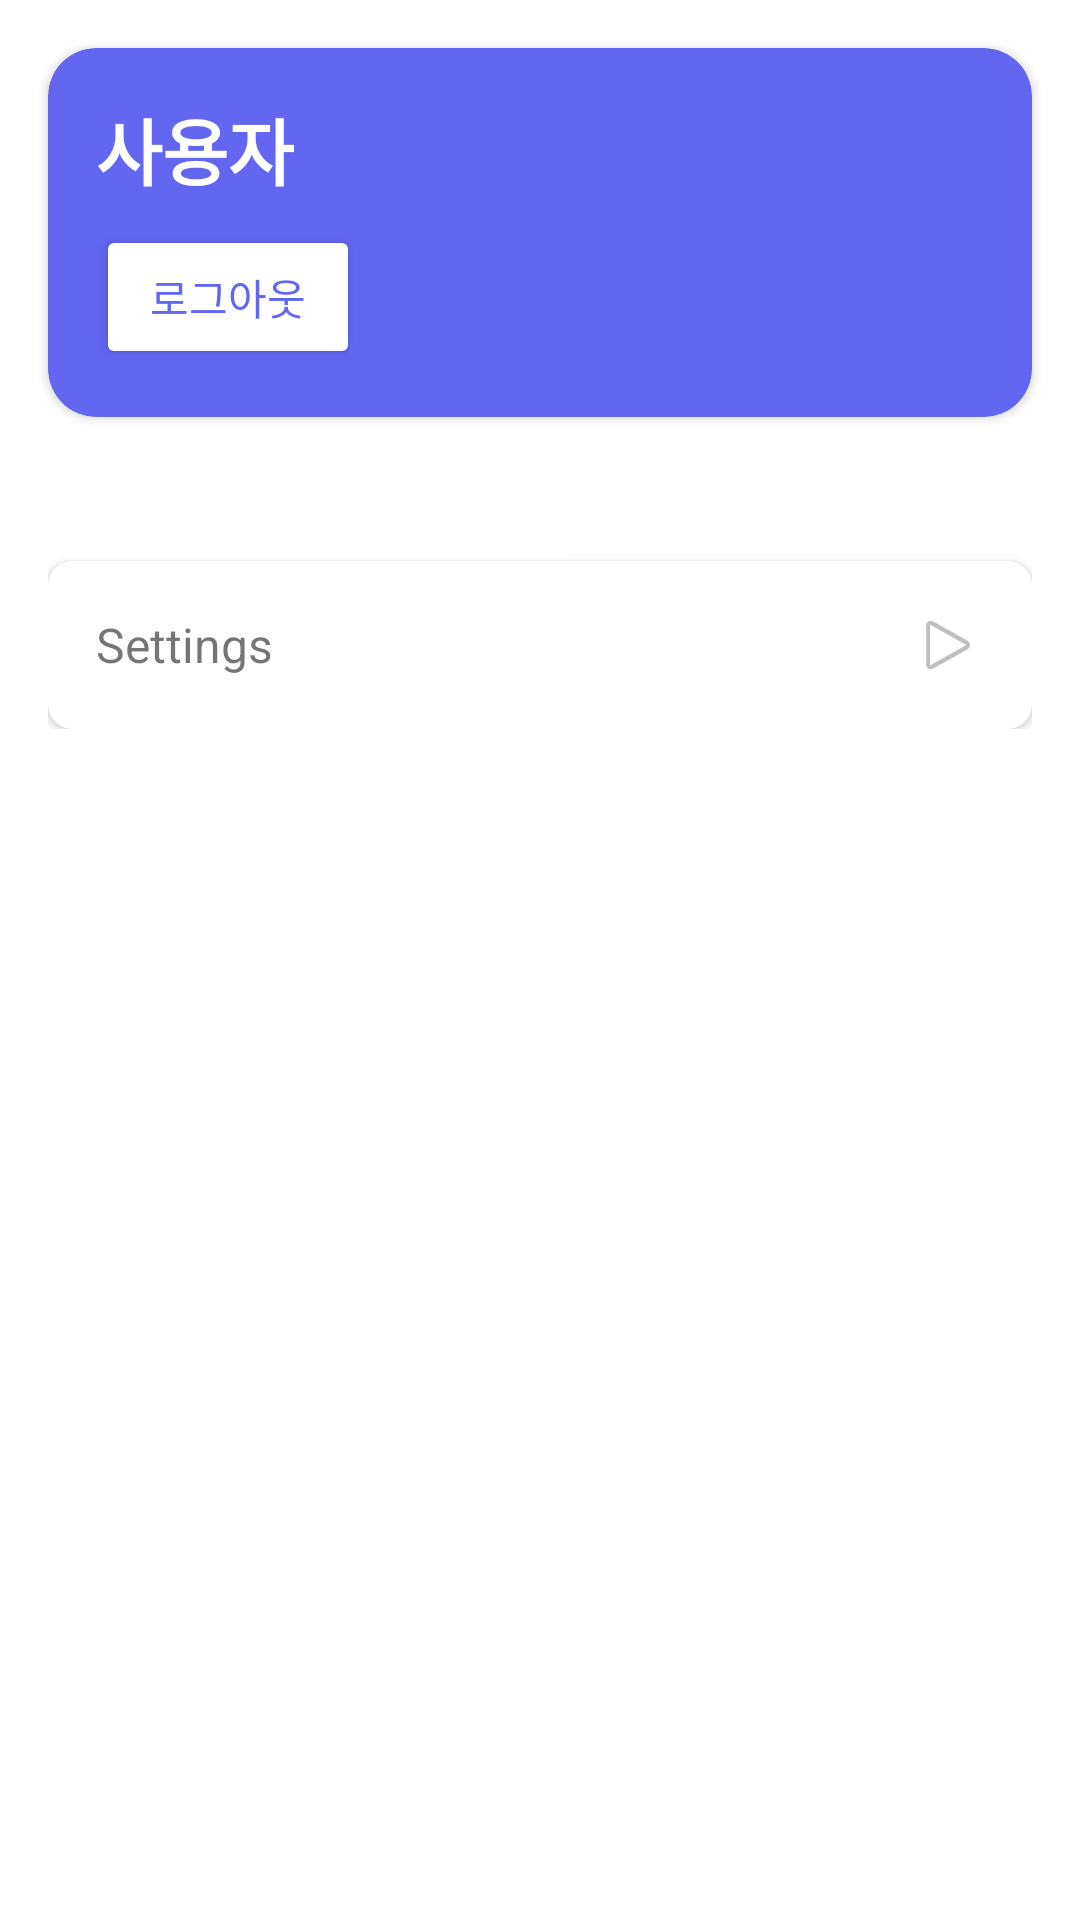

Named icons in this screenshot (1080*1920) and their centers, (x=x, y=y):
play: (x=948, y=645)
